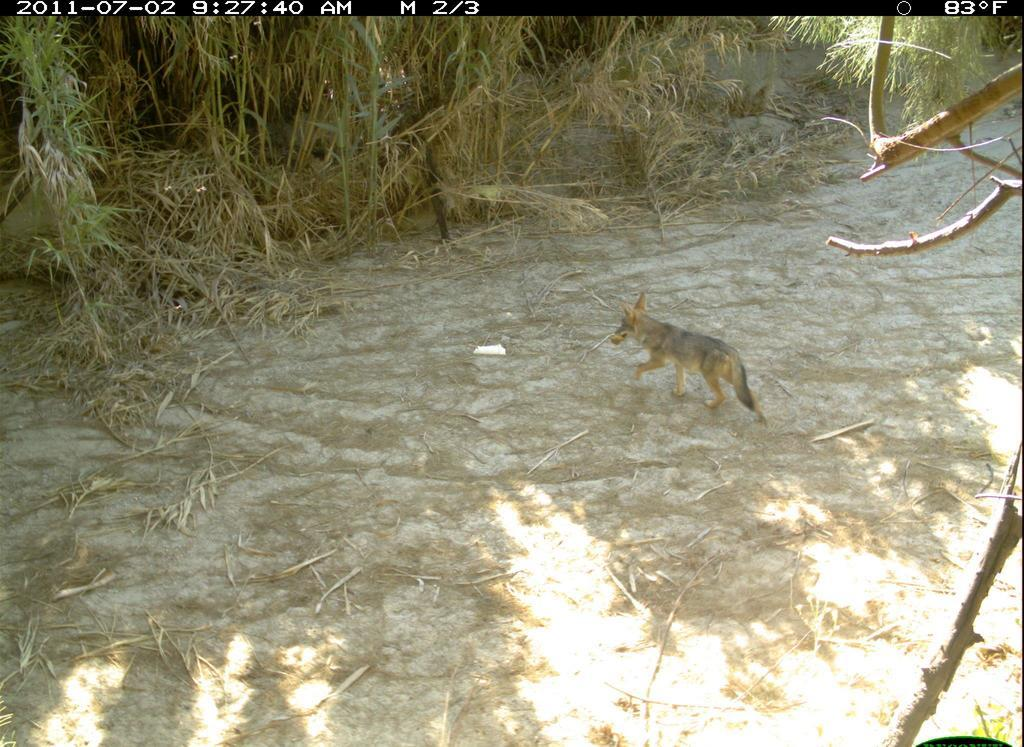coyote: (611, 289, 774, 431)
